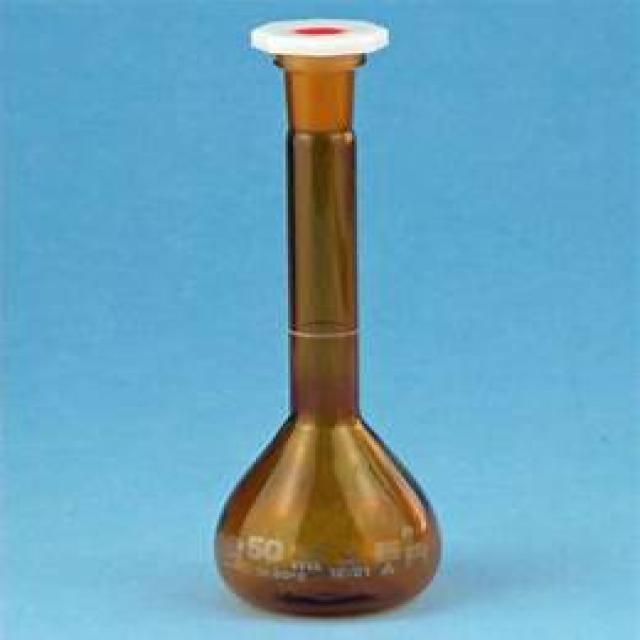Volumetric flask: (188, 24, 443, 613)
